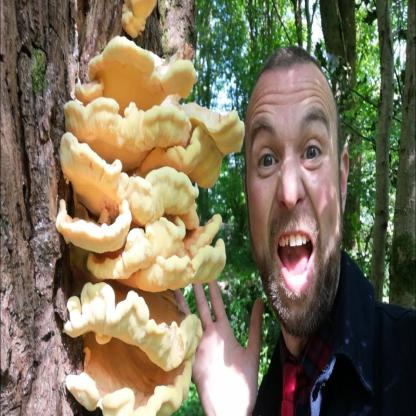CoW: (54, 33, 245, 416)
